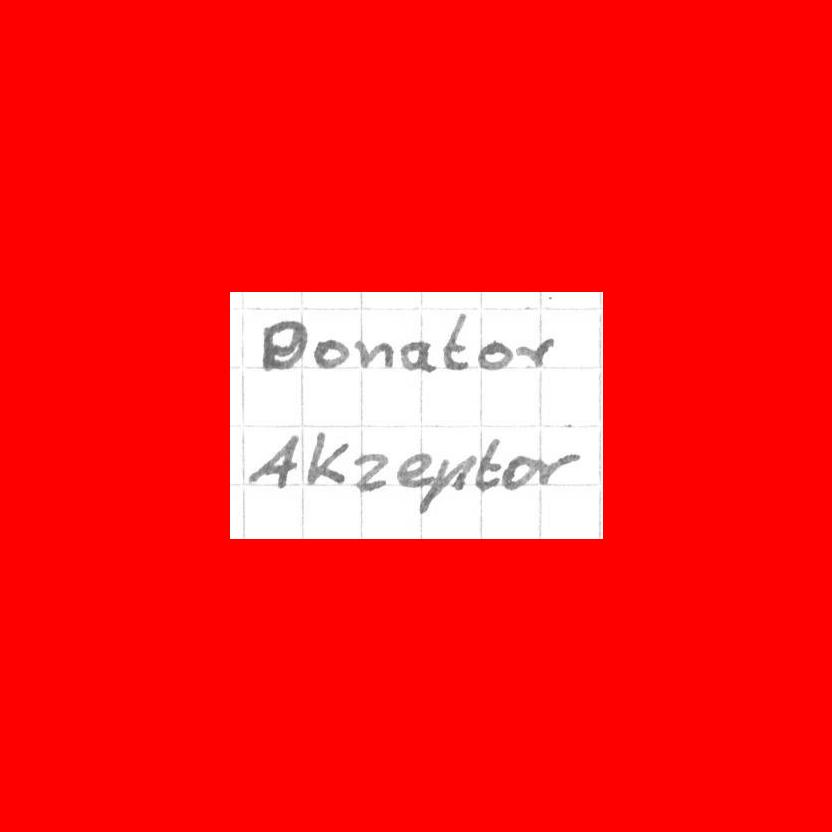Char: (415, 450, 475, 514), (249, 433, 301, 490), (258, 316, 307, 371), (307, 429, 350, 488), (440, 315, 471, 369), (474, 437, 505, 491), (352, 450, 390, 491), (537, 451, 579, 487), (354, 335, 392, 371), (401, 337, 437, 374), (516, 336, 554, 370), (502, 452, 535, 491), (397, 449, 429, 488), (313, 336, 347, 371), (478, 338, 510, 372)
